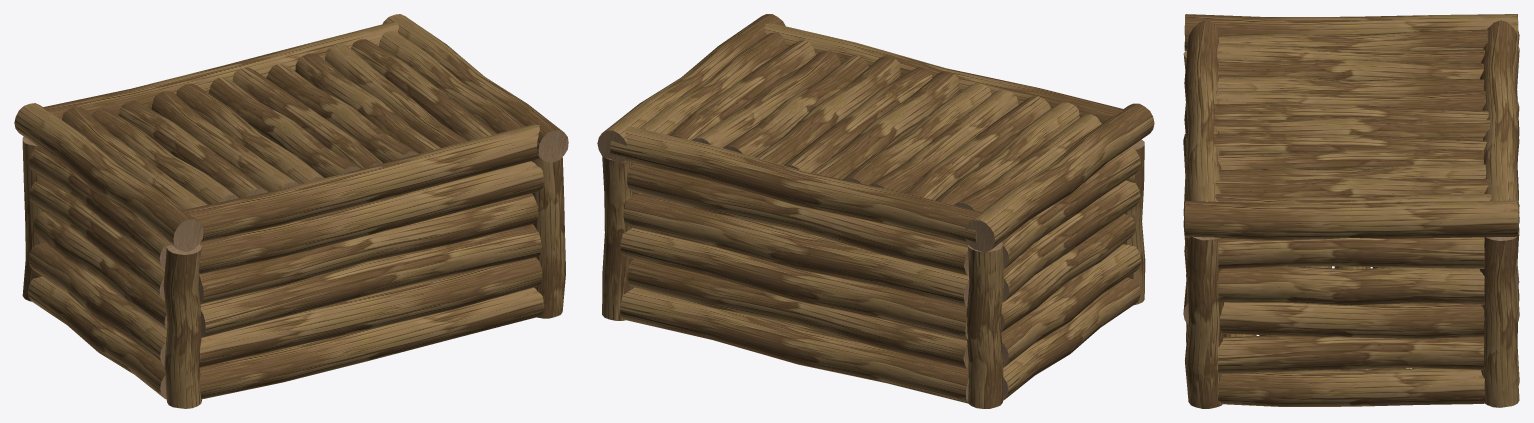
The model's file is Chest.fbx.
3 views of the same model, side by side, from view 1: azimuth 30°, elevation 25°; view 2: azimuth 150°, elevation 25°; view 3: azimuth 270°, elevation 25° (orthographic). The views are drawn at different scales.
Visible parts, largest first — view 1: Body, Cover; view 2: Body, Cover; view 3: Cover, Body.
Boxes of the visible parts, <box> form: Body: <box>22,136,565,408</box>; Cover: <box>14,14,568,251</box>; Body: <box>602,139,1145,408</box>; Cover: <box>597,14,1154,252</box>; Cover: <box>1184,14,1519,239</box>; Body: <box>1183,47,1519,408</box>.
Size of the model in its own units: 493 by 228 by 343.
